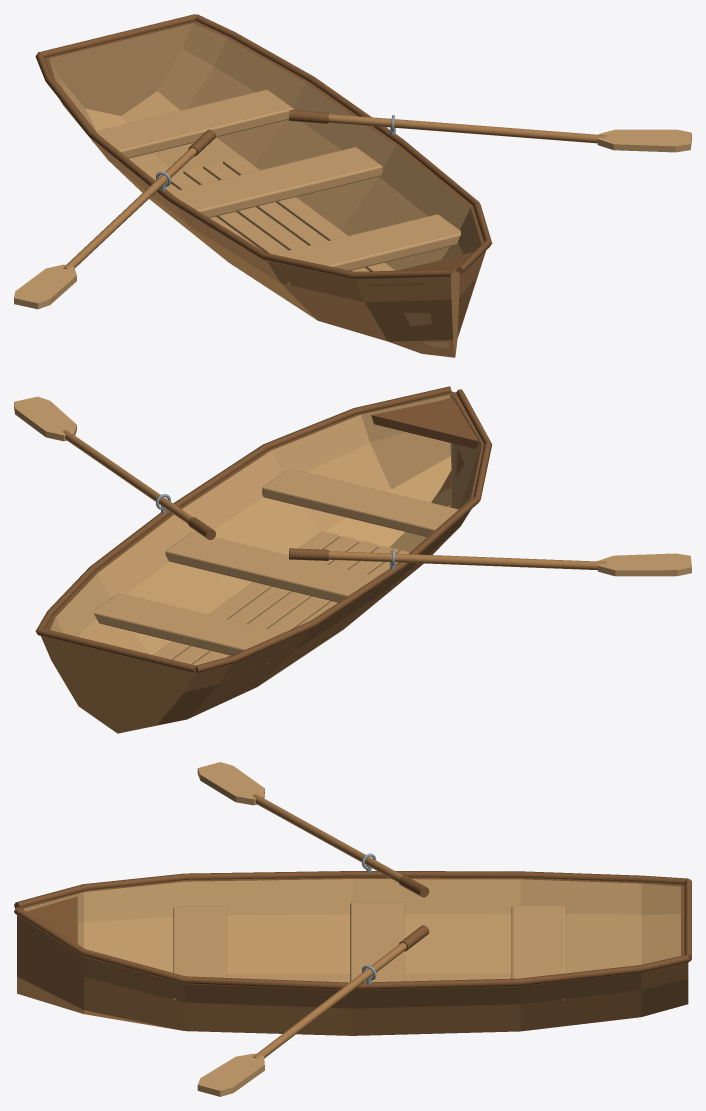
Rendered from boat_rowboat.glb.
The picture shows the model from 3 angles, top to bottom: view 1: azimuth 30°, elevation 25°; view 2: azimuth 150°, elevation 25°; view 3: azimuth 270°, elevation 25°; orthographic projection.
Parts seen in each view (by area): view 1: Rowboat hollow hull, Cross bench 2, Cross bench 3, Cross bench 1, Rowboat gunwale rail, Rowboat gunwale rail.001, Starboard oar shaft, Broad wooden oar blade.001, Broad wooden oar blade, Interior floorboard.004, Port oar shaft, Interior floorboard.003 (+4 smaller); view 2: Rowboat hollow hull, Cross bench 2, Cross bench 1, Cross bench 3, Rowboat gunwale rail, Rowboat gunwale rail.001, Small bow cap, Port oar shaft, Broad wooden oar blade, Interior floorboard.004, Interior floorboard.003, Broad wooden oar blade.001 (+4 smaller); view 3: Rowboat hollow hull, Rowboat gunwale rail.001, Rowboat gunwale rail, Cross bench 3, Cross bench 2, Cross bench 1, Broad wooden oar blade.001, Broad wooden oar blade, Starboard oar shaft, Interior floorboard, Port oar shaft, Small bow cap (+1 smaller).
Part boxes in pixels (x1,y1,x2,y2): Rowboat hollow hull: (44, 21, 486, 357); Cross bench 2: (170, 147, 382, 217); Cross bench 3: (92, 89, 293, 158); Cross bench 1: (273, 214, 460, 285); Rowboat gunwale rail: (35, 53, 451, 279); Rowboat gunwale rail.001: (195, 14, 492, 274); Starboard oar shaft: (328, 114, 606, 143); Broad wooden oar blade.001: (597, 129, 691, 152); Broad wooden oar blade: (14, 264, 76, 309); Interior floorboard.004: (223, 157, 394, 271); Port oar shaft: (63, 147, 196, 269); Interior floorboard.003: (203, 162, 369, 271); Rowboat hollow hull: (41, 391, 484, 733); Cross bench 2: (165, 532, 376, 602); Cross bench 1: (262, 468, 458, 536); Cross bench 3: (93, 593, 282, 663); Rowboat gunwale rail: (196, 389, 492, 673); Rowboat gunwale rail.001: (35, 386, 451, 634); Small bow cap: (371, 398, 478, 448); Port oar shaft: (328, 551, 606, 570); Broad wooden oar blade: (598, 553, 691, 576); Interior floorboard.004: (153, 531, 339, 659); Interior floorboard.003: (173, 536, 359, 664); Broad wooden oar blade.001: (14, 396, 76, 441); Rowboat hollow hull: (17, 877, 688, 1035); Rowboat gunwale rail.001: (14, 907, 689, 990); Rowboat gunwale rail: (14, 871, 688, 908); Cross bench 3: (511, 906, 565, 1000); Cross bench 2: (350, 902, 404, 982); Cross bench 1: (173, 906, 226, 1000); Broad wooden oar blade.001: (197, 1053, 264, 1096); Broad wooden oar blade: (197, 762, 264, 805); Starboard oar shaft: (252, 942, 406, 1058); Interior floorboard: (226, 974, 511, 982); Port oar shaft: (252, 794, 402, 882); Small bow cap: (26, 896, 77, 943).
Bounding box in the file's own units: 3.77 × 0.6623 × 3.28.
